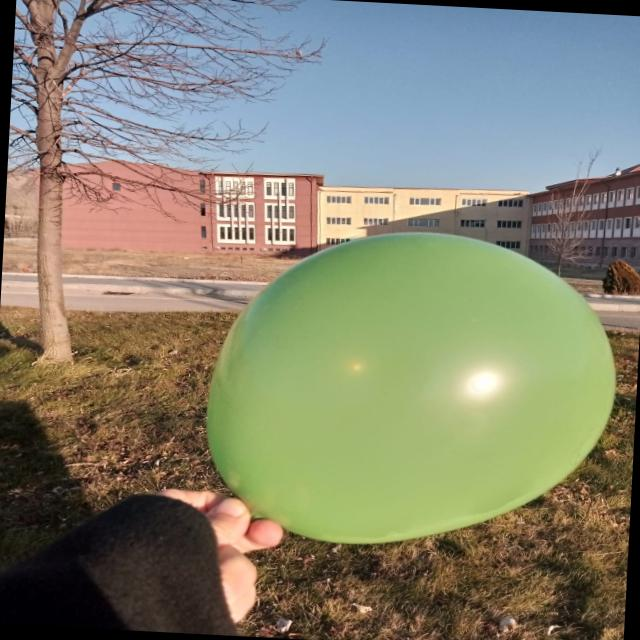balloon: (207, 234, 615, 543)
